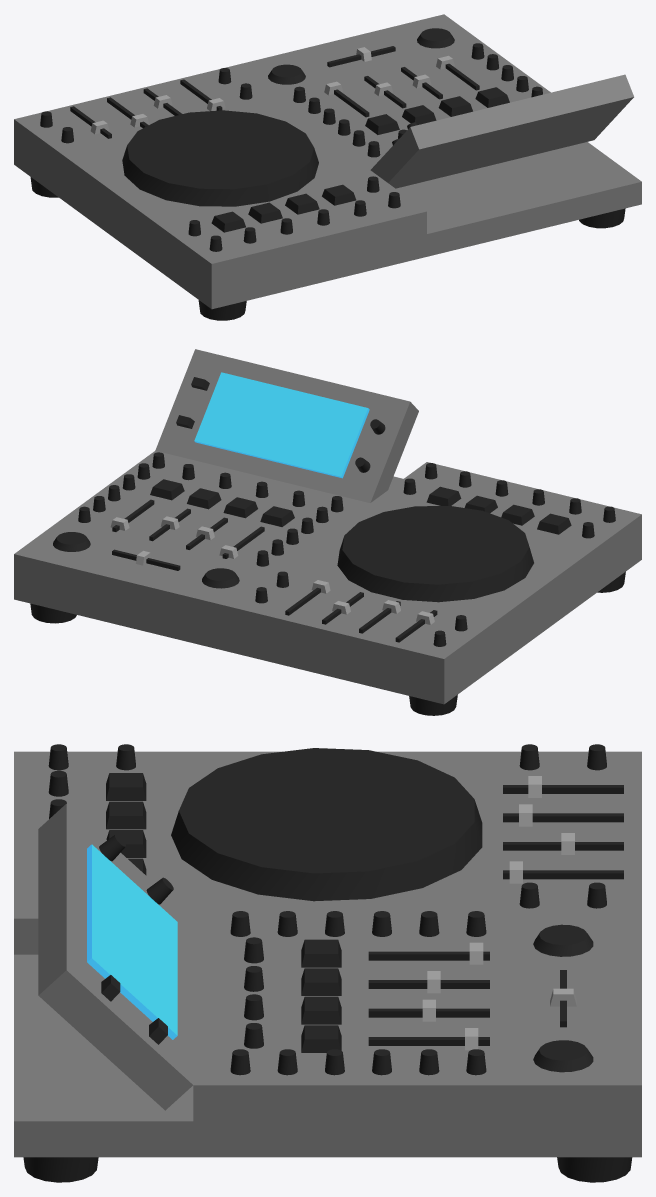
File: DJ Mixers.glb
The picture shows the model from 3 angles, top to bottom: view 1: azimuth 30°, elevation 25°; view 2: azimuth 150°, elevation 25°; view 3: azimuth 270°, elevation 25°; orthographic projection. The views are drawn at different scales.
Visible parts, largest first — view 1: DeckSectionMiddle, BottomMixerSection, TopMixerSection, JogWheel, MixerSection, DrumPads (×8), Round (×2), Knobs (×2); view 2: DeckSectionMiddle, BottomMixerSection, MixerSection, JogWheel, Display, Round (×2), Knobs (×2); view 3: BottomMixerSection, DeckSectionMiddle, JogWheel, MixerSection, TopMixerSection, Display, Slider (×8), DrumPads (×7), Round (×2), Knobs (×2).
Part boxes in pixels (x1,y1,x2,y2): DeckSectionMiddle: (14,67,426,309); BottomMixerSection: (229,14,550,169); TopMixerSection: (396,142,641,256); JogWheel: (122,110,318,206); MixerSection: (370,74,633,188); DrumPads (×8): (211,87,509,232); Round (×2): (198,208,625,320); Knobs (×2): (268,28,454,84); DeckSectionMiddle: (229,462,641,704); BottomMixerSection: (14,450,369,651); MixerSection: (155,349,418,502); JogWheel: (337,506,533,602); Display: (194,372,369,478); Round (×2): (30,603,457,715); Knobs (×2): (53,532,239,588); BottomMixerSection: (193,918,641,1157); DeckSectionMiddle: (14,751,641,954); JogWheel: (171,748,482,901); MixerSection: (38,803,193,1110); TopMixerSection: (14,954,193,1157); Display: (87,844,177,1039); Slider (×8): (368,785,623,1045); DrumPads (×7): (106,773,341,1052); Round (×2): (23,1157,632,1182); Knobs (×2): (533,924,593,1072).
Bounding box in the file's own units: 0.5853 × 0.1777 × 0.466.
